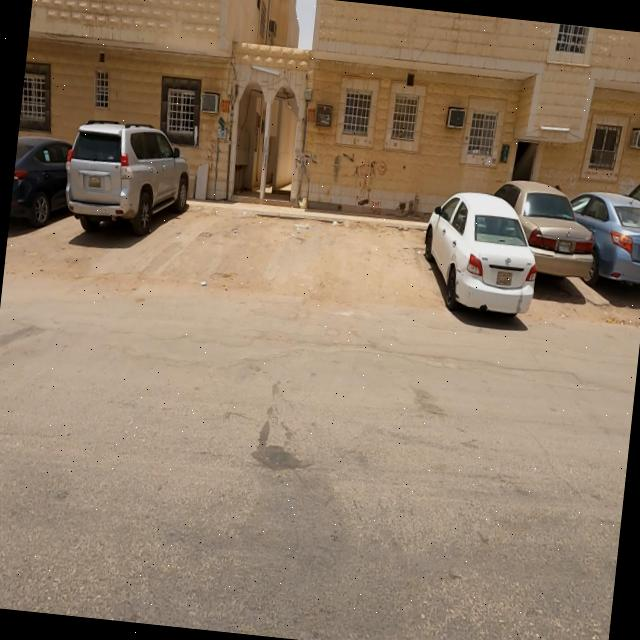Graffiti: (353, 158, 389, 195), (207, 140, 219, 177), (294, 147, 303, 173), (369, 200, 384, 215)
